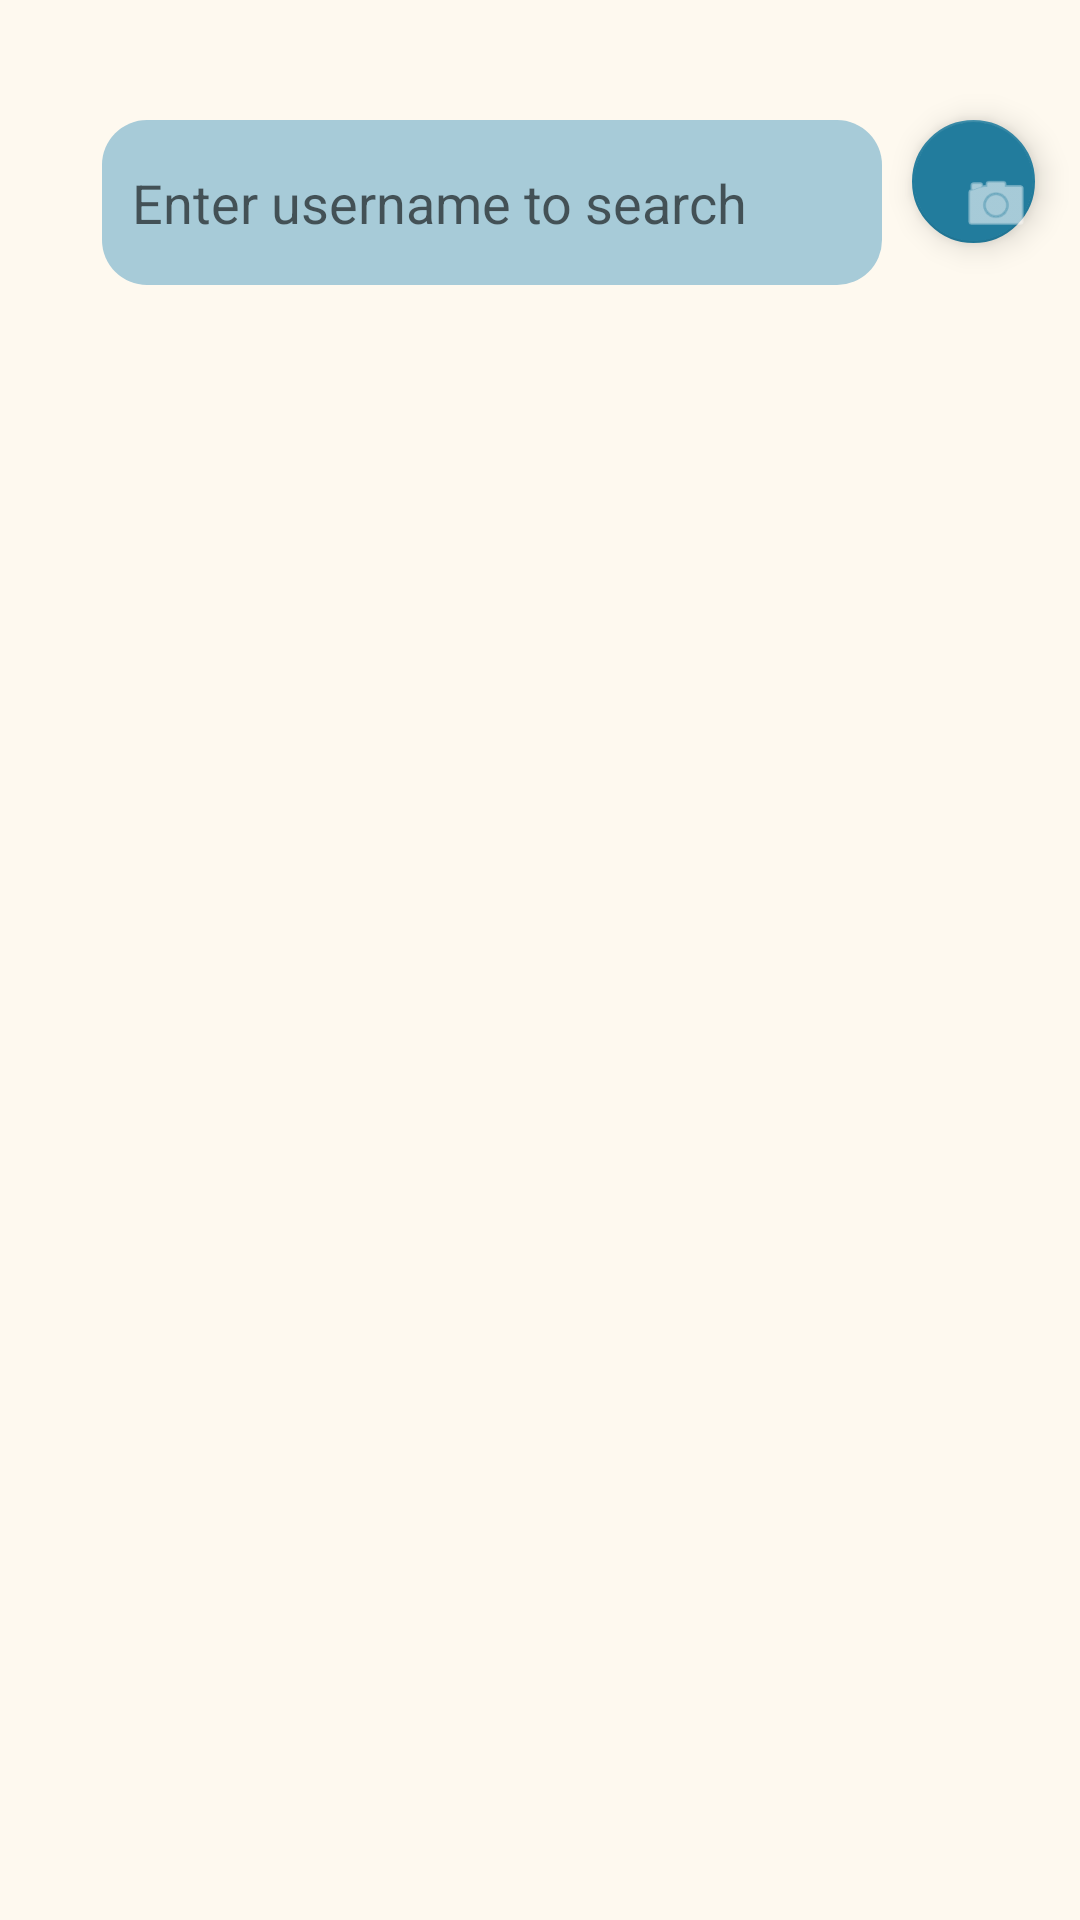

Icon bounding boxes for this 1080*1920 phone screenshot, format {"x1": x1, "y1": y1, "x2": x2, "y2": y2}:
camera: {"x1": 912, "y1": 120, "x2": 1035, "y2": 243}
